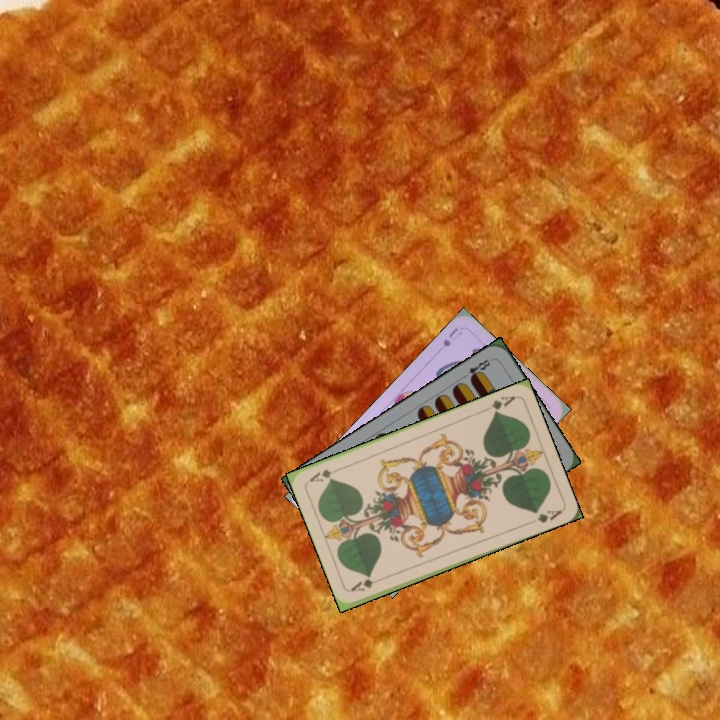E8: (458, 355, 495, 383)
GA: (479, 391, 518, 417), (347, 573, 387, 594)
SU: (439, 323, 464, 349)
